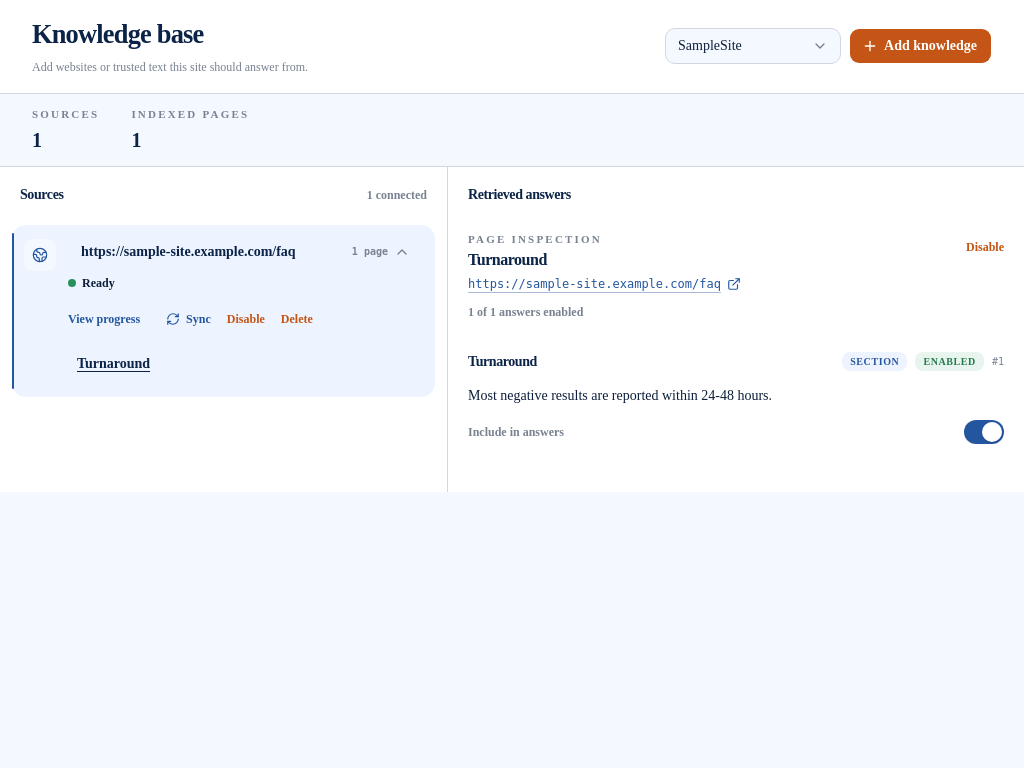
Scenario: knowledge add website › view progress on a first index lists the added units
Click the button "View progress" at (104, 320), box [68,304,140,336]
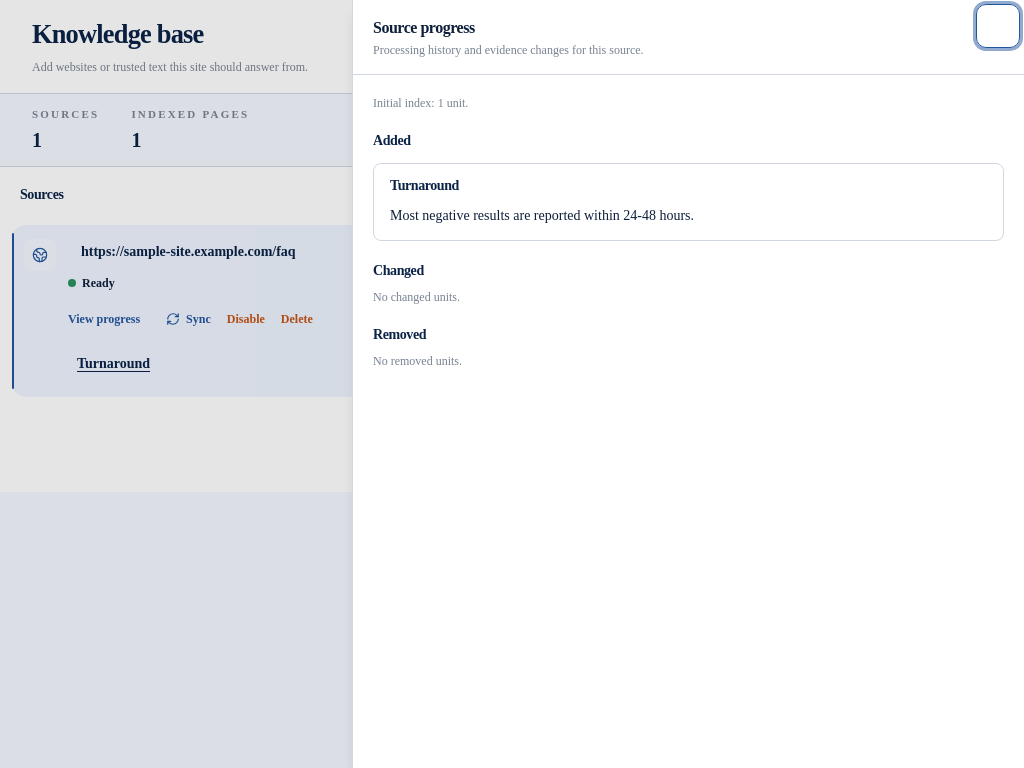
Expected: the text "Initial index: 1 unit." is shown, [373,96,468,110]
